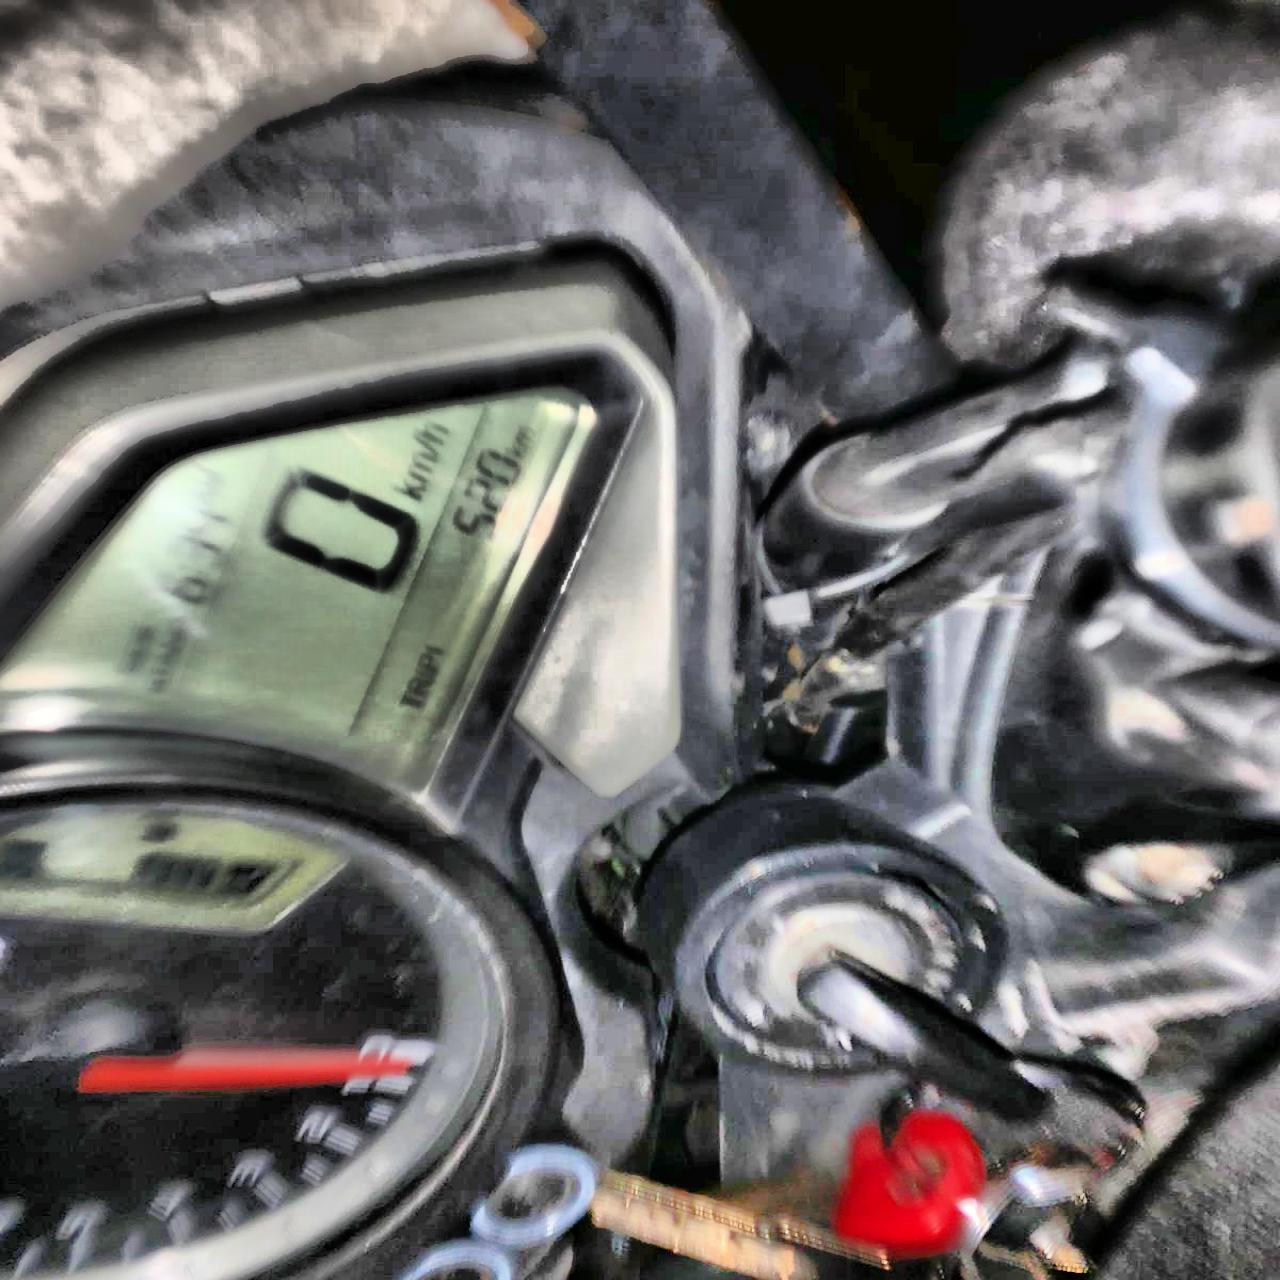0: (257, 464, 418, 591), (474, 447, 522, 486)
1: (423, 645, 443, 654)
2: (464, 478, 505, 512)
3: (168, 533, 226, 565)
4: (177, 504, 233, 533)
5: (448, 506, 496, 538)
6: (147, 568, 207, 604)
X: (407, 451, 436, 482), (413, 420, 449, 443), (388, 478, 422, 501), (192, 465, 224, 488), (182, 486, 219, 504), (409, 435, 438, 452), (406, 678, 431, 697), (502, 442, 529, 459), (513, 425, 537, 444), (173, 563, 207, 576), (397, 692, 421, 708), (415, 653, 438, 669), (410, 668, 434, 681)
odometer: (0, 376, 610, 744)
